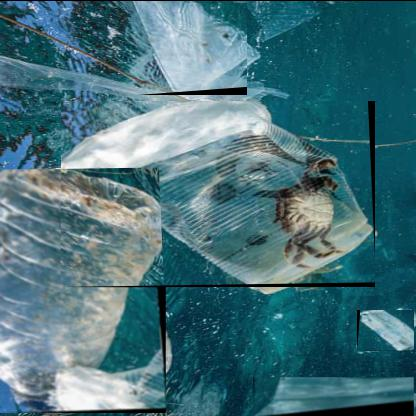bottle: (0, 167, 167, 412)
waste: (61, 99, 378, 286), (137, 1, 248, 94), (253, 375, 416, 415), (357, 308, 415, 350)
